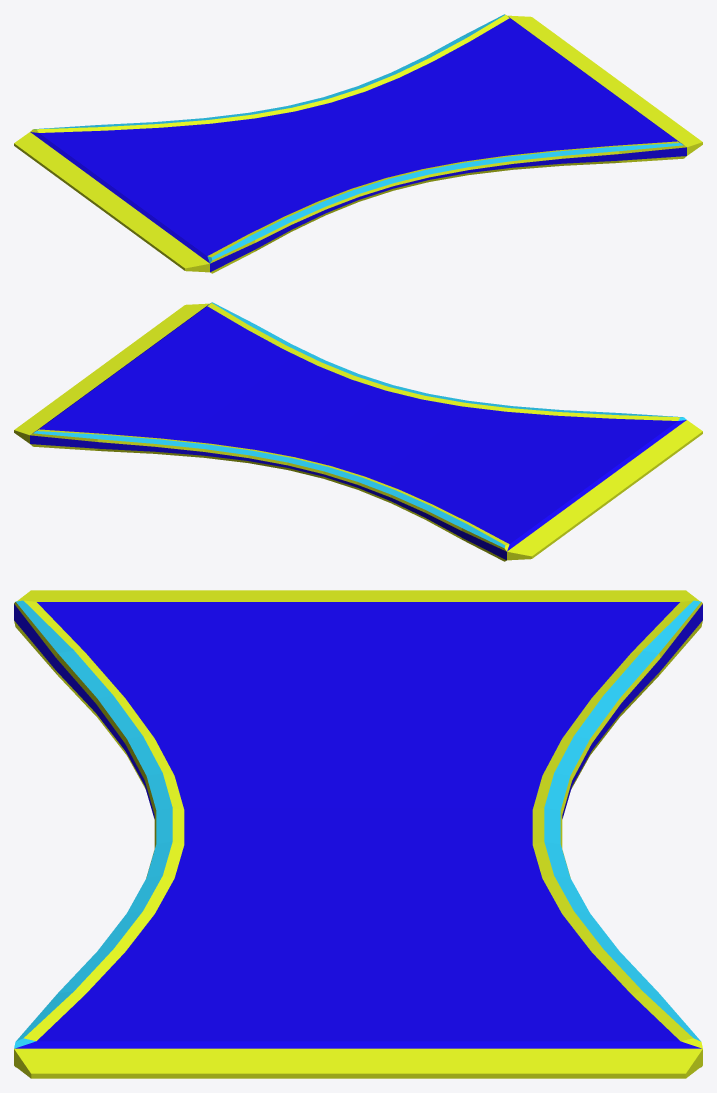
File: Hourglass platform.FBX
3 renders of one model, top to bottom at view 1: azimuth 30°, elevation 25°; view 2: azimuth 150°, elevation 25°; view 3: azimuth 270°, elevation 25°, orthographic. The views are drawn at different scales.
Visible parts, largest first — view 1: Box068; view 2: Box068; view 3: Box068.
Boxes of the visible parts, x1,y1,x2,y2 form: Box068: [14, 14, 702, 273]; Box068: [14, 302, 702, 561]; Box068: [14, 590, 702, 1078].
Size of the model in its own units: 24.94 by 0.7246 by 15.02.
